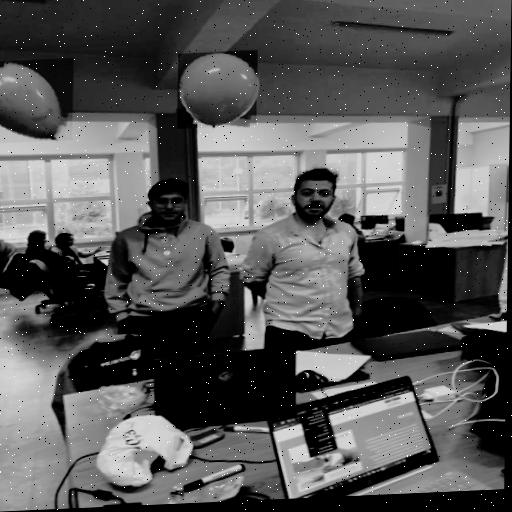balloon: (182, 47, 260, 128), (0, 58, 65, 144)
